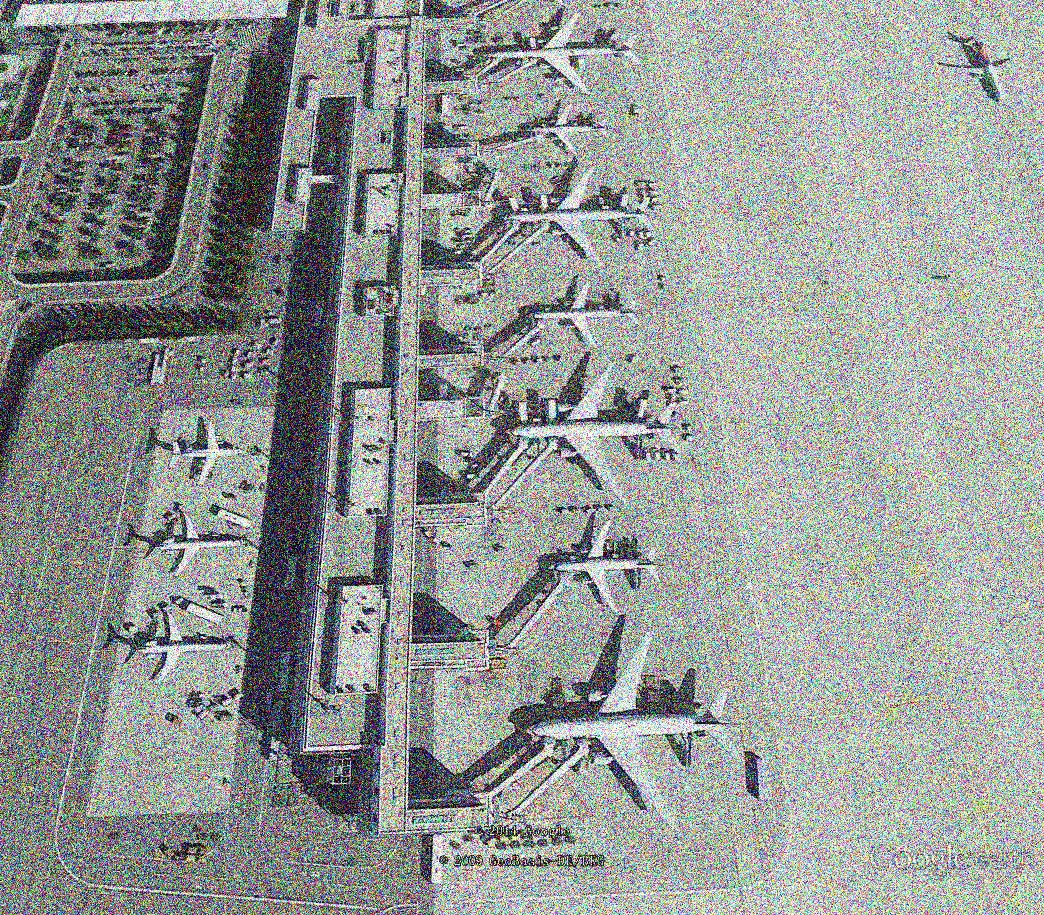aircraft: (514, 625, 754, 840), (501, 355, 696, 510), (498, 157, 661, 277), (472, 4, 649, 100), (541, 513, 666, 613), (118, 607, 237, 691), (522, 280, 645, 355), (136, 510, 247, 580), (937, 28, 1032, 108), (162, 417, 250, 489), (517, 100, 615, 157)
